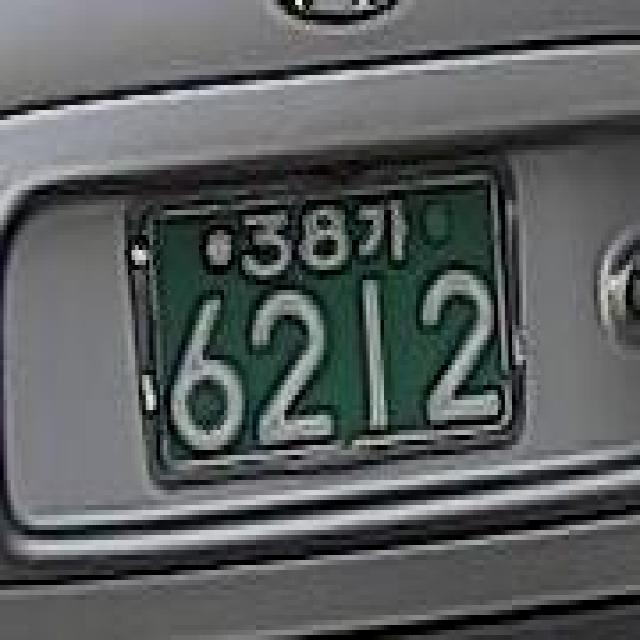illegal_plate: (117, 156, 536, 484)
